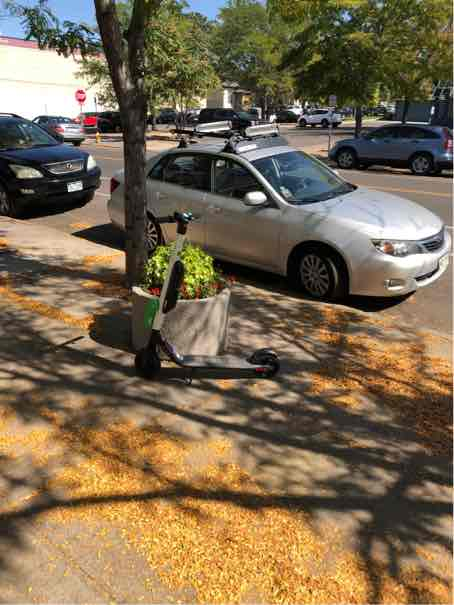scooter: (80, 213, 299, 380)
